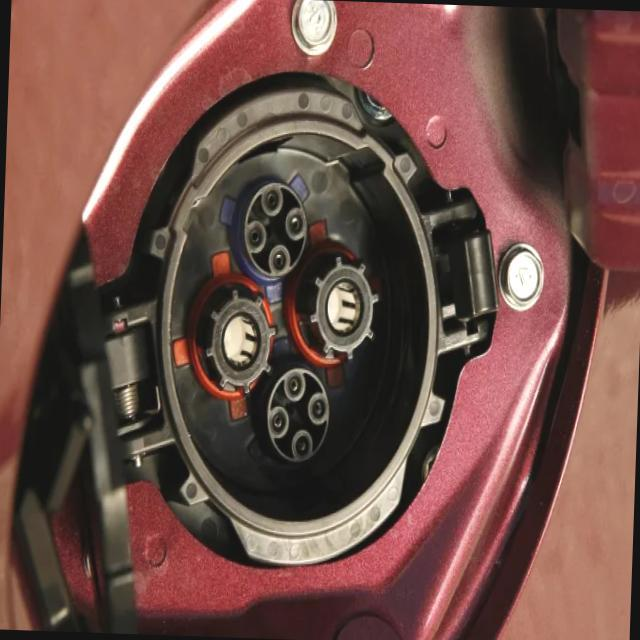CHAdeMO: (115, 116, 448, 489)
